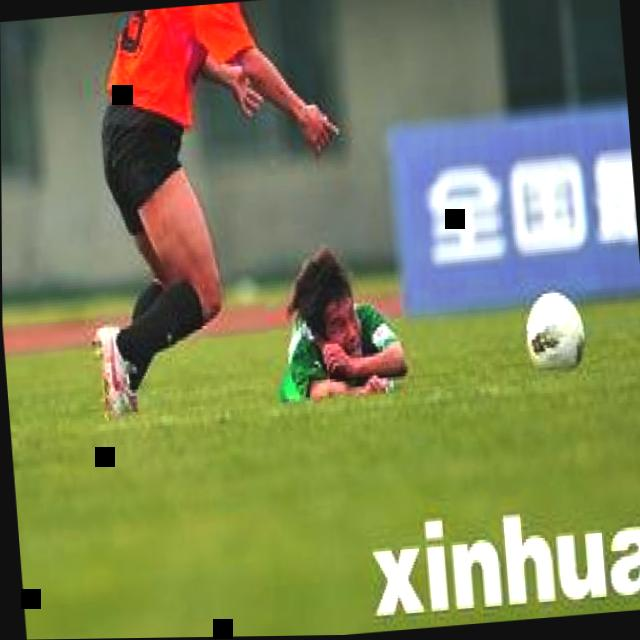Fall-Detected: (250, 223, 416, 408)
